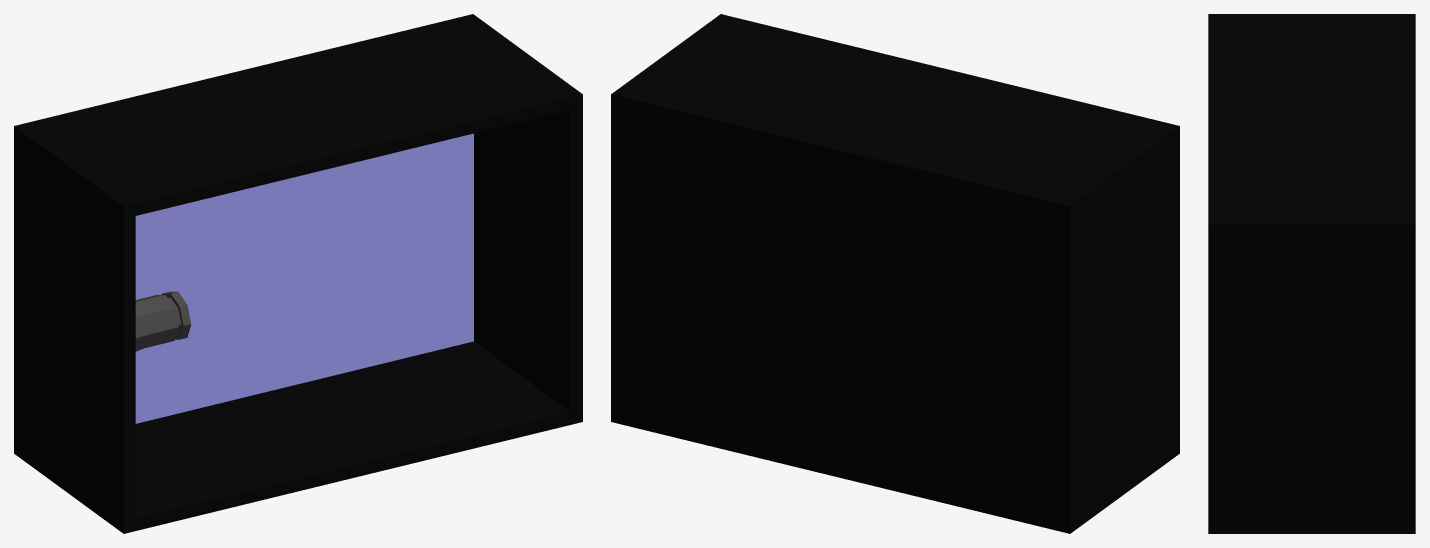
File: FillCanister.fbx
The picture shows the model from 3 angles, left to right: view 1: azimuth 30°, elevation 25°; view 2: azimuth 150°, elevation 25°; view 3: azimuth 270°, elevation 25°; orthographic projection. The views are drawn at different scales.
Parts seen in each view (by area): view 1: FillCanister; view 2: FillCanister; view 3: FillCanister.
Part boxes in pixels (box(x1,y1,x2,y2)): FillCanister: box(14, 14, 582, 533); FillCanister: box(611, 14, 1179, 533); FillCanister: box(1208, 14, 1415, 533).
Bounding box in the file's own units: 293 × 200 × 122.
